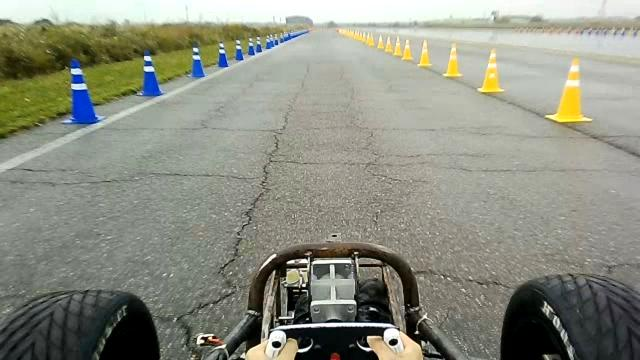blue cone: (61, 58, 104, 125), (136, 50, 164, 96), (189, 42, 205, 78), (217, 41, 229, 67), (234, 39, 244, 60), (255, 36, 263, 52), (248, 37, 255, 55), (265, 34, 273, 49)
yellow cone: (544, 57, 593, 123), (477, 48, 505, 93), (442, 42, 462, 78), (418, 39, 432, 67), (401, 38, 413, 61), (392, 35, 402, 56), (384, 36, 393, 53), (366, 31, 375, 47), (377, 34, 384, 49)
